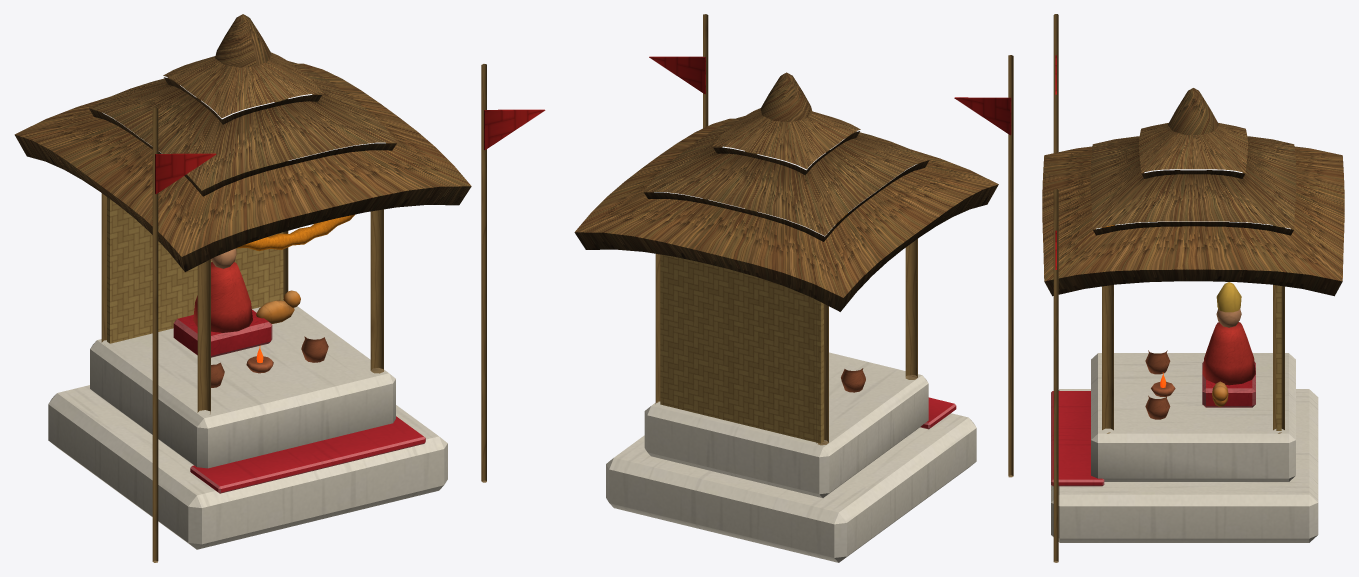
File: shrine.glb
3 views of the same model, side by side, from view 1: azimuth 30°, elevation 25°; view 2: azimuth 150°, elevation 25°; view 3: azimuth 270°, elevation 25° (orthographic). The views are drawn at different scales.
Parts seen in each view (by area): view 1: body; view 2: body; view 3: body.
Boxes of the visible parts, x1=… form: body: x1=14, y1=14, x2=545, y2=562; body: x1=574, y1=14, x2=1013, y2=562; body: x1=1042, y1=14, x2=1344, y2=562.
Size of the model in its own units: 2.26 by 2.5 by 1.7.
9 materials, 7 textured.
